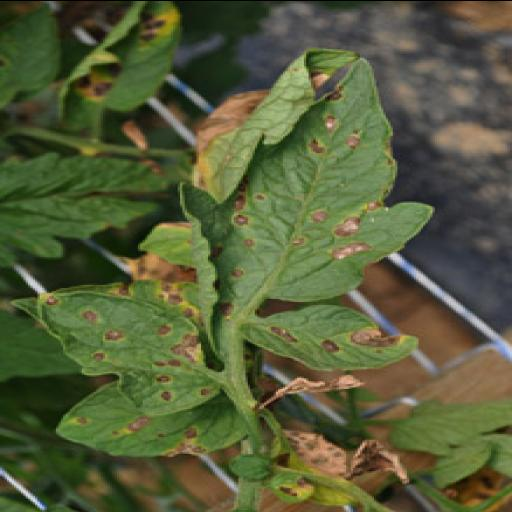disease_tomato: (178, 47, 434, 303), (38, 280, 218, 416), (53, 378, 244, 456), (54, 0, 178, 116), (227, 302, 423, 374)
